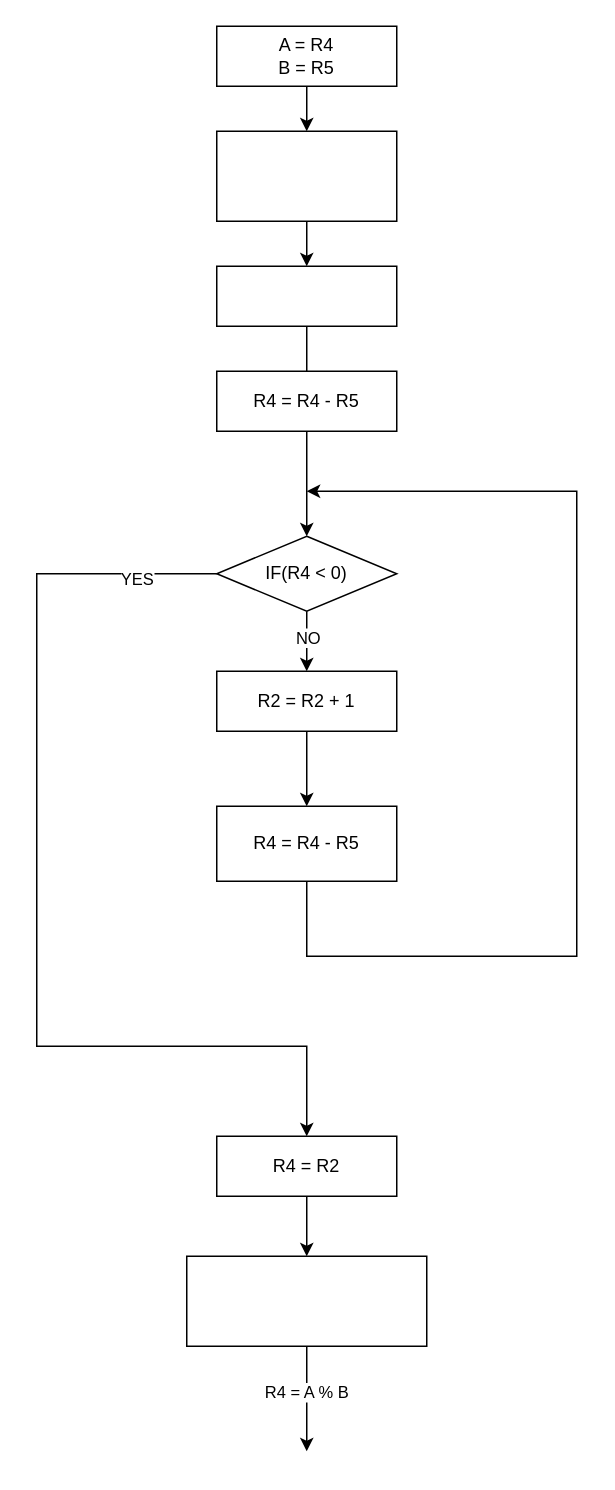
This 615x1490 diagram has some shape labels left out. The centre of each missing label's shape, as x and y in pixels:
R2 = 0: pixel 306 295
RESTORE R2, R1 RESTORE Linkage: pixel 306 1300
SAVE Linkage SAVE R1, R2: pixel 306 175
